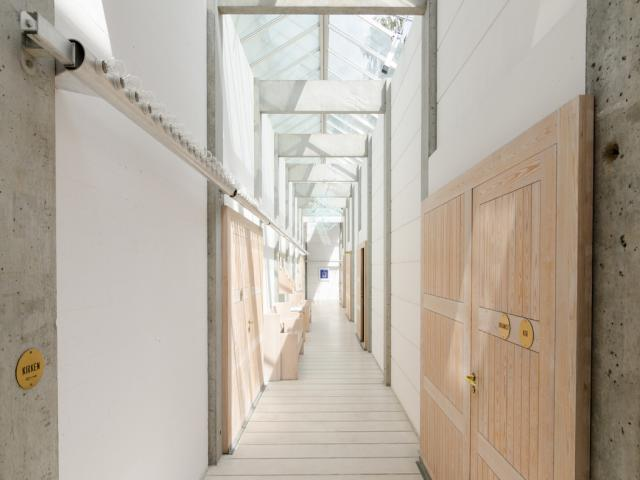Door-handle: (466, 372, 482, 394), (248, 318, 254, 330)
